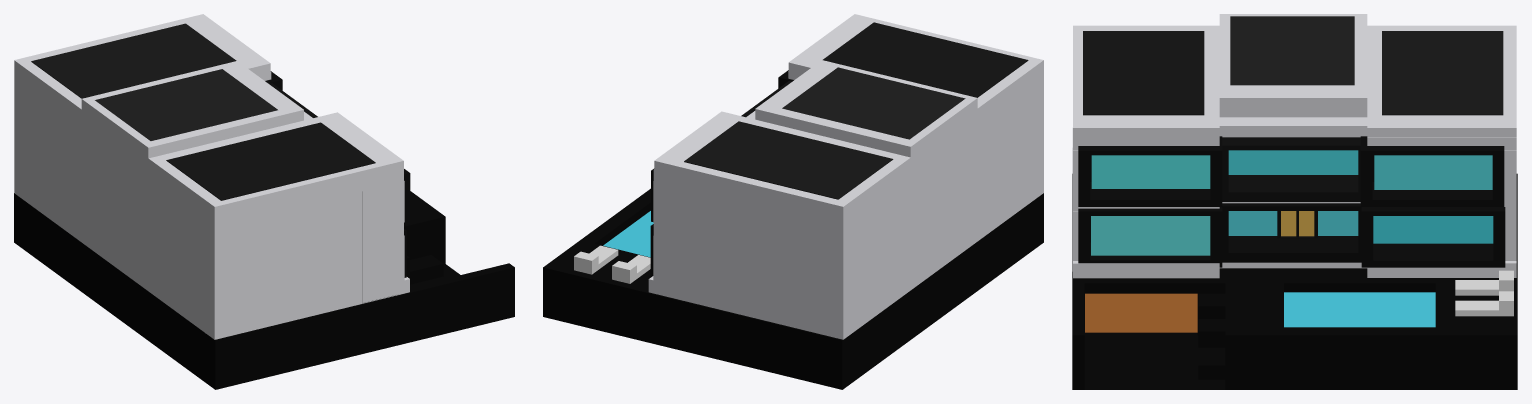
Rendered from farel2.glb.
3 views of the same model, side by side, from view 1: azimuth 30°, elevation 25°; view 2: azimuth 150°, elevation 25°; view 3: azimuth 270°, elevation 25° (orthographic). The views are drawn at different scales.
Parts seen in each view (by area): view 1: bangunan, teras, Cube, Cube.001, Cube.002; view 2: bangunan, teras, Cube.001, Cube, Cube.002, air, bangku hias 2, bangku hias; view 3: teras, bangunan, Cube, Cube.001, Cube.002, Cube.005, Cube.009, air, Cube.008, Cube.003, Cube.004, kaca 4 (+11 smaller).
Boxes of the visible parts, x1=… form: bangunan: x1=14, y1=14, x2=409, y2=339; teras: x1=14, y1=191, x2=514, y2=389; Cube: x1=166, y1=122, x2=375, y2=200; Cube.001: x1=31, y1=23, x2=236, y2=98; Cube.002: x1=95, y1=69, x2=277, y2=140; bangunan: x1=648, y1=14, x2=1043, y2=339; teras: x1=543, y1=188, x2=1043, y2=389; Cube.001: x1=684, y1=121, x2=893, y2=199; Cube: x1=823, y1=22, x2=1028, y2=97; Cube.002: x1=782, y1=67, x2=965, y2=139; air: x1=603, y1=211, x2=653, y2=257; bangku hias 2: x1=574, y1=245, x2=618, y2=274; bangku hias: x1=612, y1=255, x2=650, y2=283; teras: x1=1072, y1=173, x2=1517, y2=389; bangunan: x1=1072, y1=14, x2=1516, y2=278; Cube: x1=1083, y1=31, x2=1204, y2=115; Cube.001: x1=1382, y1=31, x2=1503, y2=115; Cube.002: x1=1230, y1=16, x2=1354, y2=85; Cube.005: x1=1222, y1=137, x2=1360, y2=201; Cube.009: x1=1361, y1=207, x2=1505, y2=267; air: x1=1284, y1=292, x2=1435, y2=327; Cube.008: x1=1220, y1=203, x2=1361, y2=262; Cube.003: x1=1078, y1=136, x2=1222, y2=206; Cube.004: x1=1360, y1=136, x2=1504, y2=206; kaca 4: x1=1091, y1=216, x2=1210, y2=255.
Size of what is drawn, in the model's own units: 12.03 by 7.5 by 13.99.
